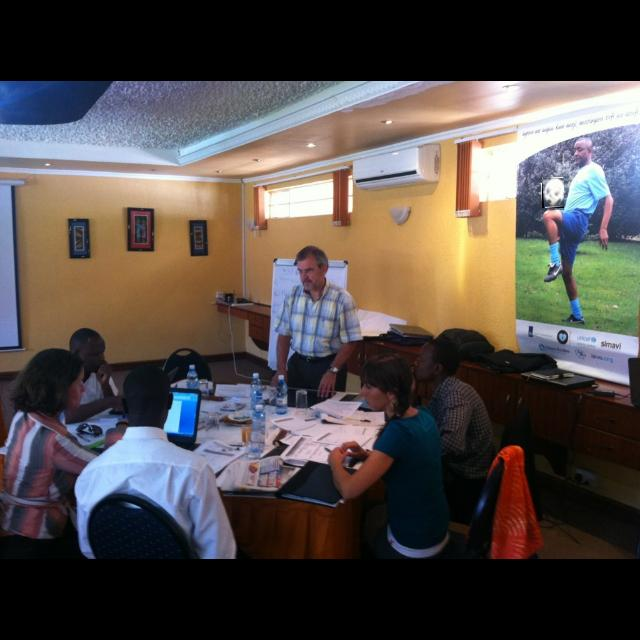Football: (542, 178, 564, 208)
